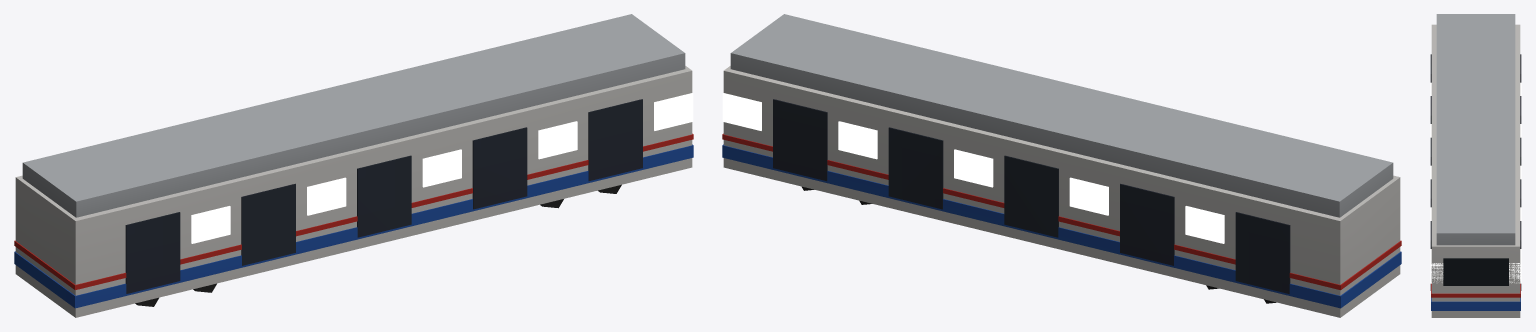
The model's file is ld_train_lo-DoiyA7C_.glb.
3 views of the same model, side by side, from view 1: azimuth 30°, elevation 25°; view 2: azimuth 150°, elevation 25°; view 3: azimuth 270°, elevation 25° (orthographic). The views are drawn at different scales.
Size of the model in its own units: 16.08 by 3.08 by 2.78.
